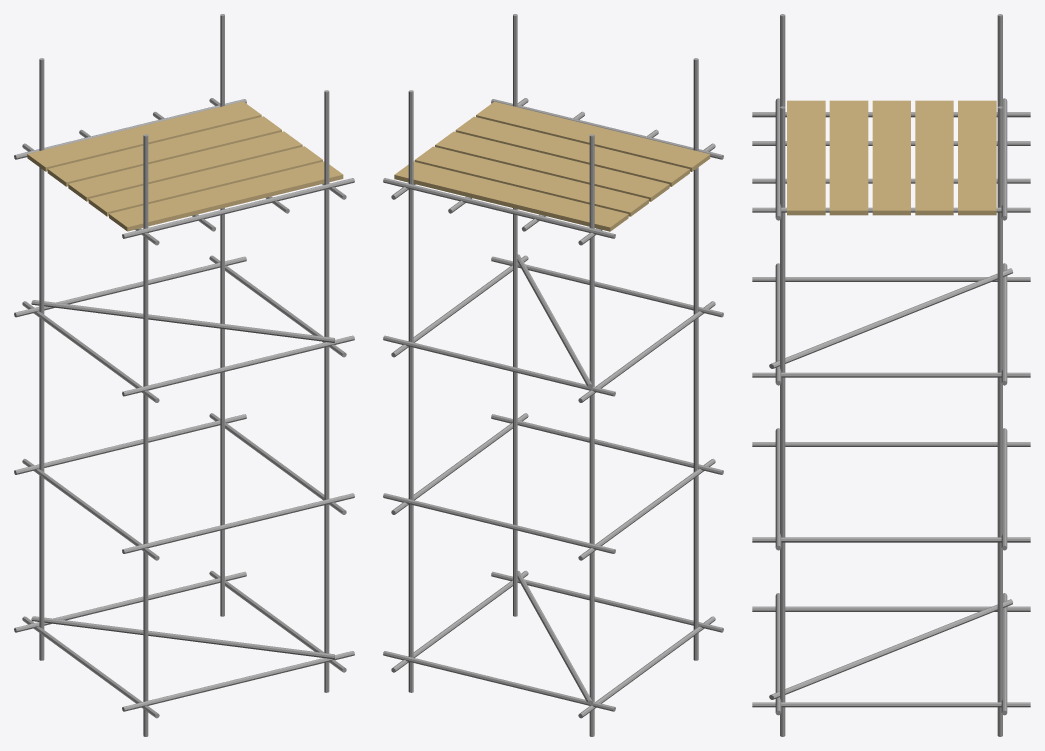
Rendered from scaffolding.fbx.
The picture shows the model from 3 angles, left to right: view 1: azimuth 30°, elevation 25°; view 2: azimuth 150°, elevation 25°; view 3: azimuth 270°, elevation 25°; orthographic projection. The views are drawn at different scales.
Parts seen in each view (by area): view 1: polySurface320; view 2: polySurface320; view 3: polySurface320.
Boxes of the visible parts, box(x1,y1,x2,y2) form: polySurface320: box(14, 14, 354, 736); polySurface320: box(383, 14, 723, 736); polySurface320: box(752, 14, 1030, 736).
Size of the model in its own units: 1.88 by 4.69 by 1.88.
